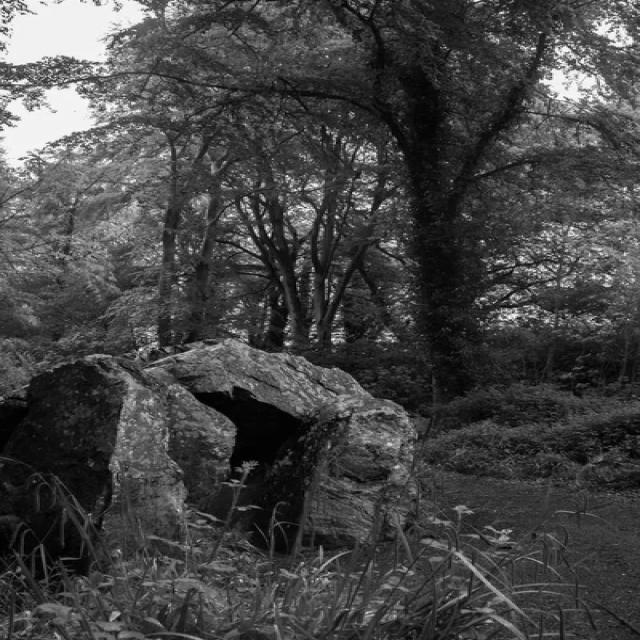Stone: (2, 340, 414, 558)
